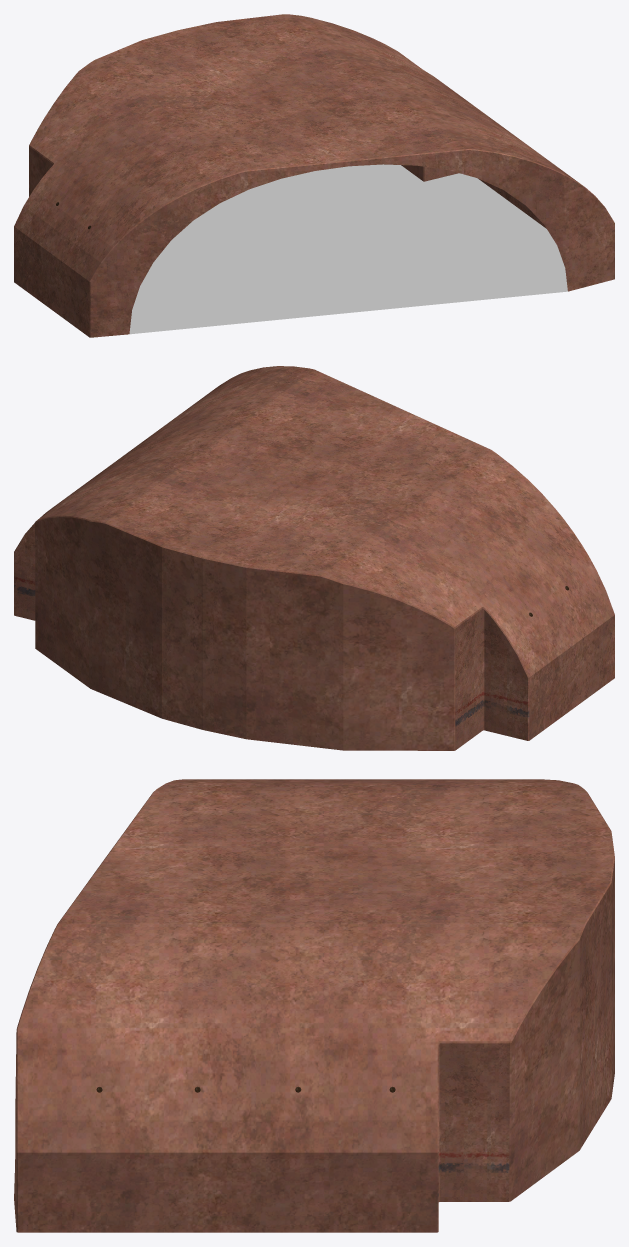
Rendered from thm_nboo_cantina_r8_stage_mesh_r8.fbx.
The picture shows the model from 3 angles, top to bottom: view 1: azimuth 30°, elevation 25°; view 2: azimuth 150°, elevation 25°; view 3: azimuth 270°, elevation 25°; orthographic projection. The views are drawn at different scales.
Visible parts, largest first — view 1: mesh_node; view 2: mesh_node; view 3: mesh_node.
Boxes of the visible parts, x1=… form: mesh_node: x1=14, y1=14, x2=614, y2=337; mesh_node: x1=14, y1=366, x2=614, y2=750; mesh_node: x1=14, y1=779, x2=614, y2=1232.
Size of the model in its own units: 13 by 4.15 by 10.42.
